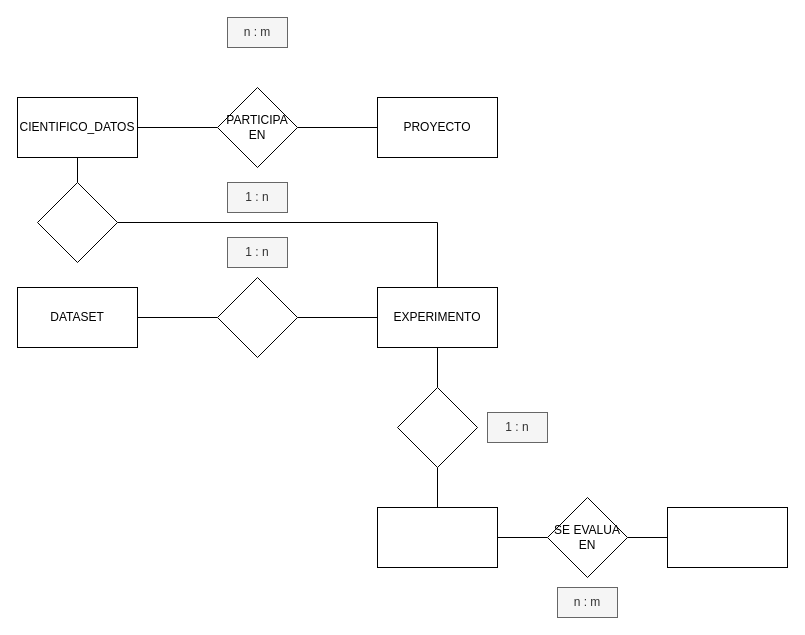
The diagram is 805 pixels wide and 635 high, and some of its shapes have lost their labels. The shapes that lost their labels are listed below. From the top down, each one's box as (x1, y1, x2, y2) in pixels, then its label:
(36, 182, 118, 262): EJECUTA
(216, 276, 298, 358): SE USA EN
(396, 386, 478, 468): PRODUCE
(376, 506, 498, 568): MODELO
(666, 506, 788, 568): METRICA
